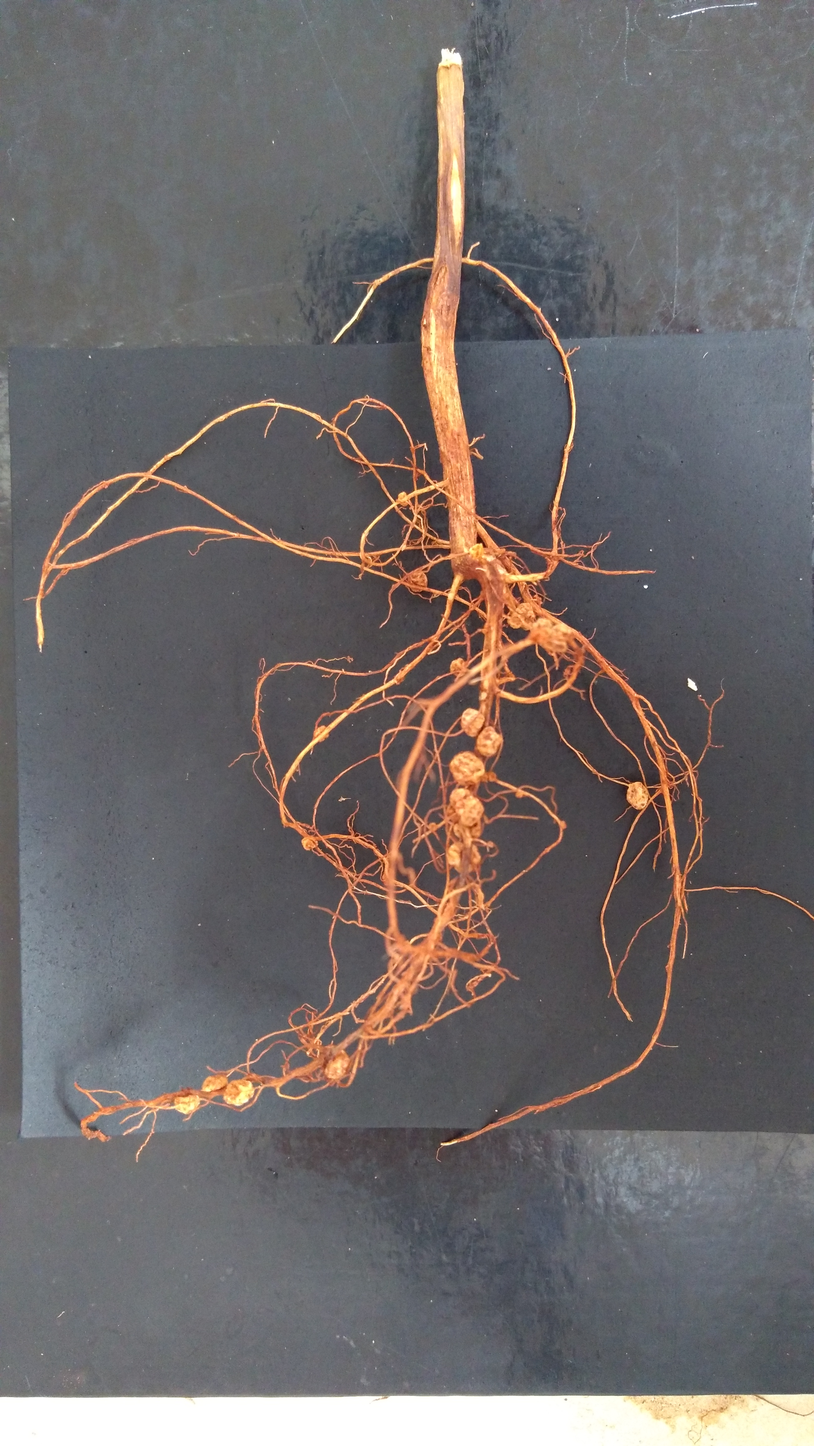nodule: (531, 618, 576, 653), (449, 788, 484, 826), (449, 751, 484, 786), (320, 1043, 351, 1079), (446, 841, 480, 873), (505, 600, 537, 631), (224, 1078, 254, 1107), (475, 726, 503, 757), (453, 814, 484, 838), (461, 708, 485, 737), (626, 781, 650, 810), (174, 1093, 200, 1114), (201, 1072, 228, 1092), (406, 568, 428, 592), (449, 657, 468, 678), (312, 725, 329, 743), (301, 835, 319, 852), (468, 543, 483, 563), (563, 663, 576, 681), (481, 770, 496, 784), (398, 492, 409, 507), (493, 548, 505, 558), (533, 594, 542, 605), (558, 820, 567, 830), (514, 789, 523, 798), (428, 821, 437, 830)
